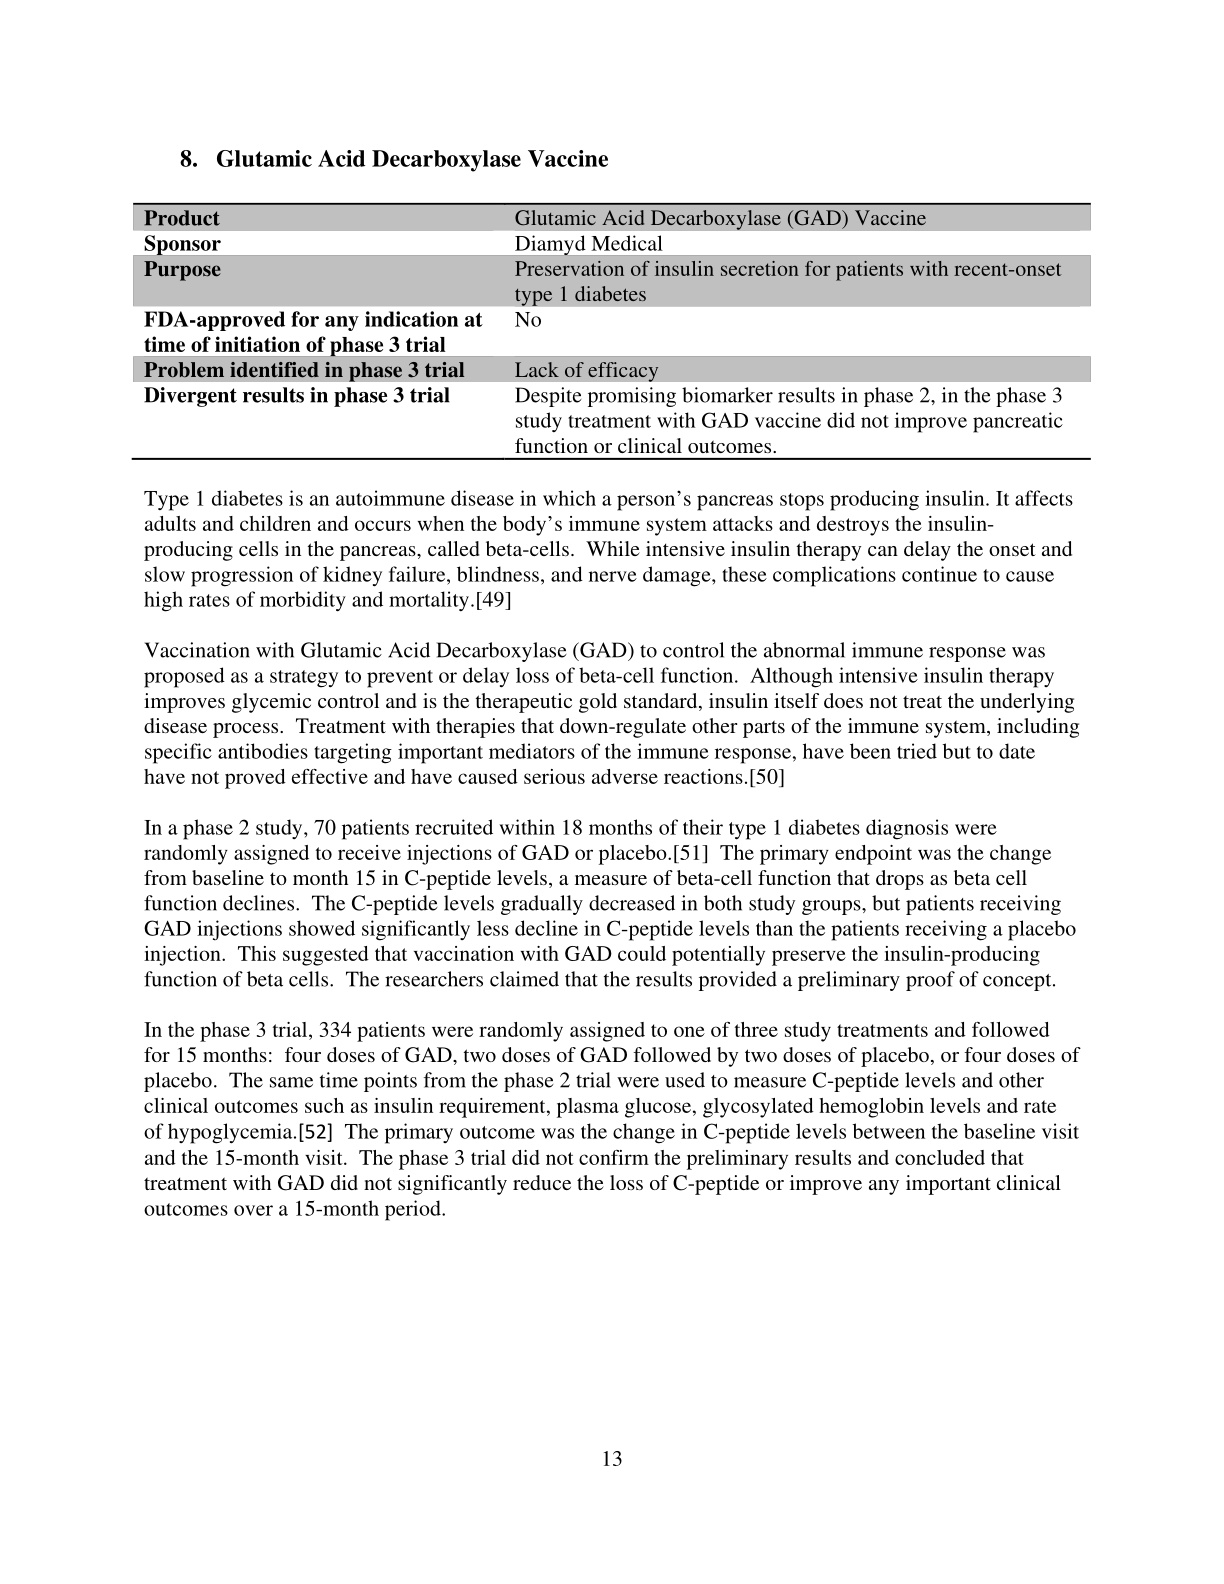partial_lined: (132, 202, 1092, 462)
